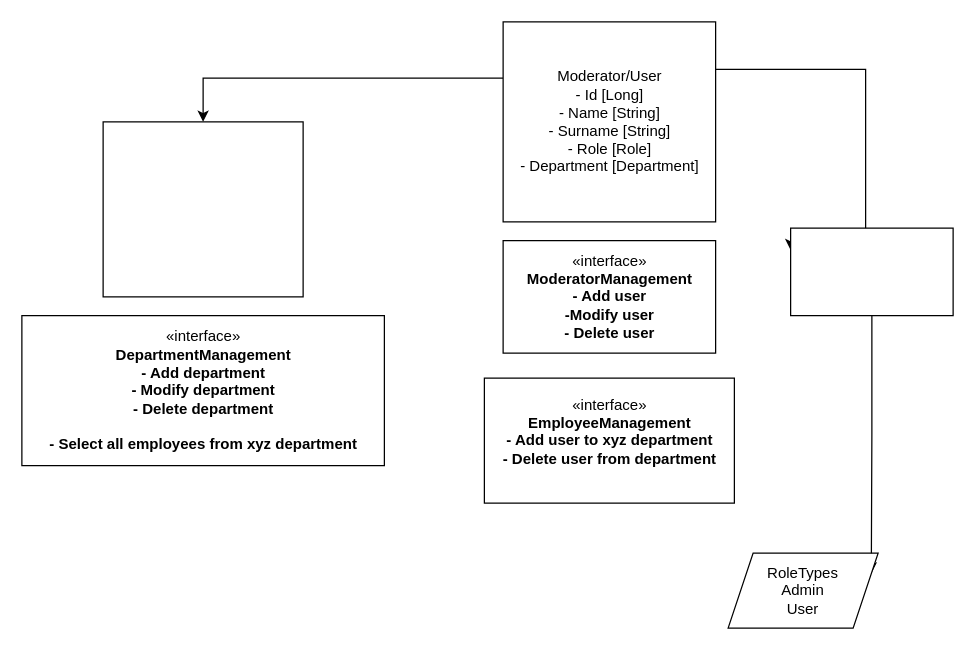
The diagram is 975 pixels wide and 650 high, and some of its shapes have lost their labels. The shapes that lost their labels are listed below. From the top down, each one's centre as x and y in pixels, then its label:
At (x=202, y=209): "Department - Id - Name - Employees list [Employee]".
At (x=871, y=271): "Role - Id - Role Name [ENUM] User user".
